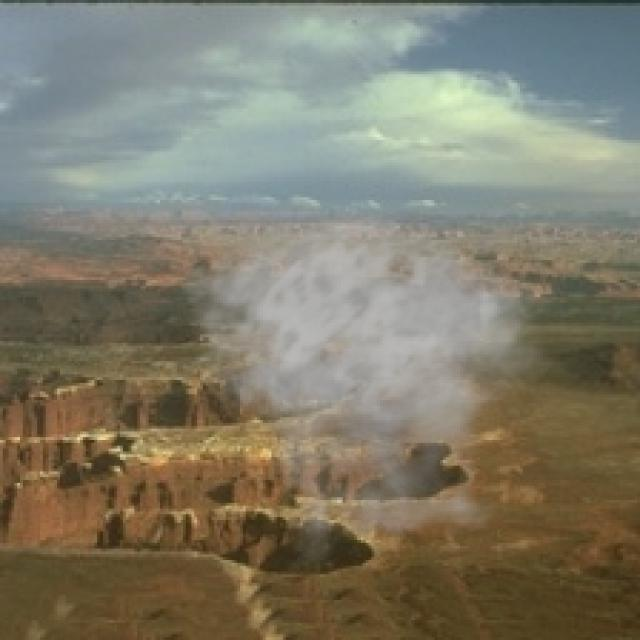smoke: (180, 212, 563, 568)
